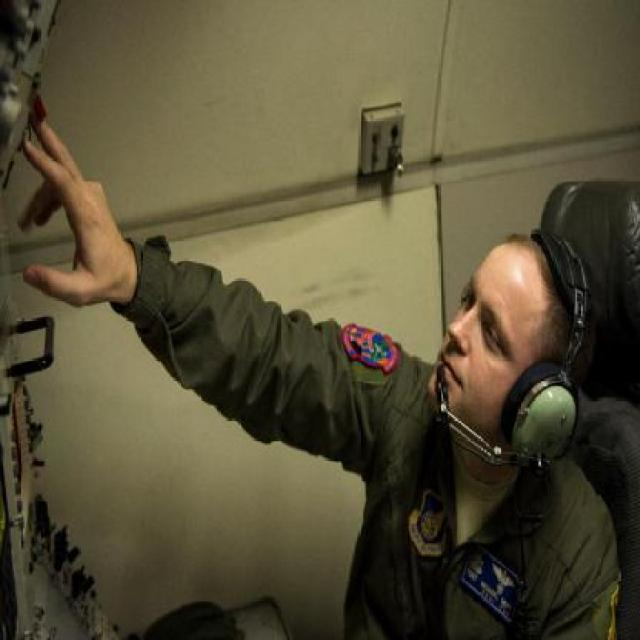earphone: (505, 218, 600, 490)
